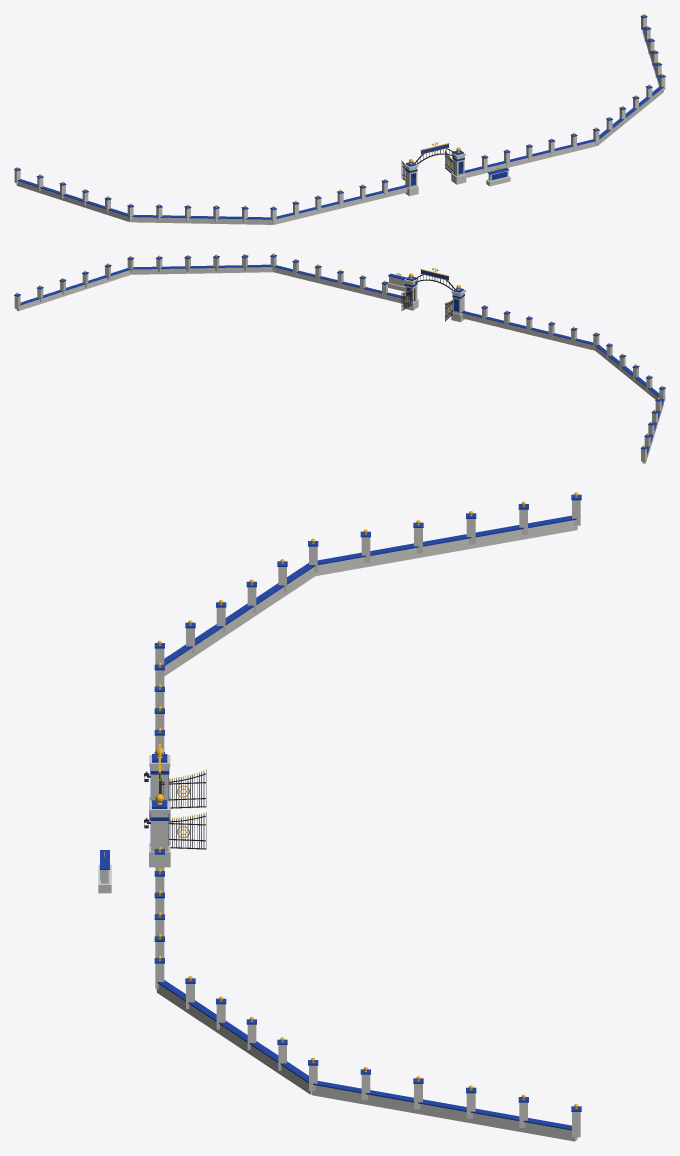
Rendered from SM_ObeliskBoys_Gate.fbx.
3 views of the same model, one above another, from view 1: azimuth 30°, elevation 25°; view 2: azimuth 150°, elevation 25°; view 3: azimuth 270°, elevation 25° (orthographic). The views are drawn at different scales.
Visible parts, largest first — view 1: SM_ObeliskBoys_Gate; view 2: SM_ObeliskBoys_Gate; view 3: SM_ObeliskBoys_Gate.
Part boxes in pixels (x1,y1,x2,y2): SM_ObeliskBoys_Gate: [14, 14, 665, 224]; SM_ObeliskBoys_Gate: [14, 253, 665, 463]; SM_ObeliskBoys_Gate: [98, 492, 581, 1141].
Bounding box in the file's own units: 133 × 9.15 × 44.07.
